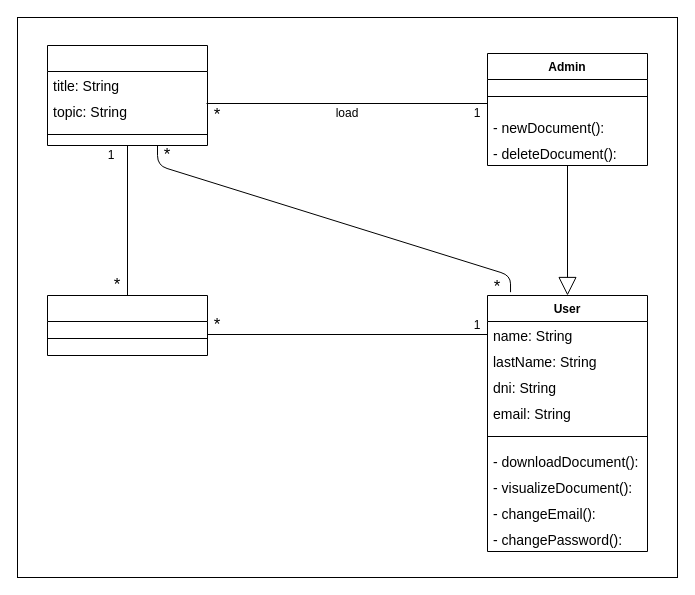
This 695x595 diagram has some shape labels left out. The shapes that lost their labels are listed below. From the top down, each one's box as (x1, y1, x2, y2) in pixels, then its label:
(46, 44, 208, 146): Document
(46, 294, 208, 356): Notification
